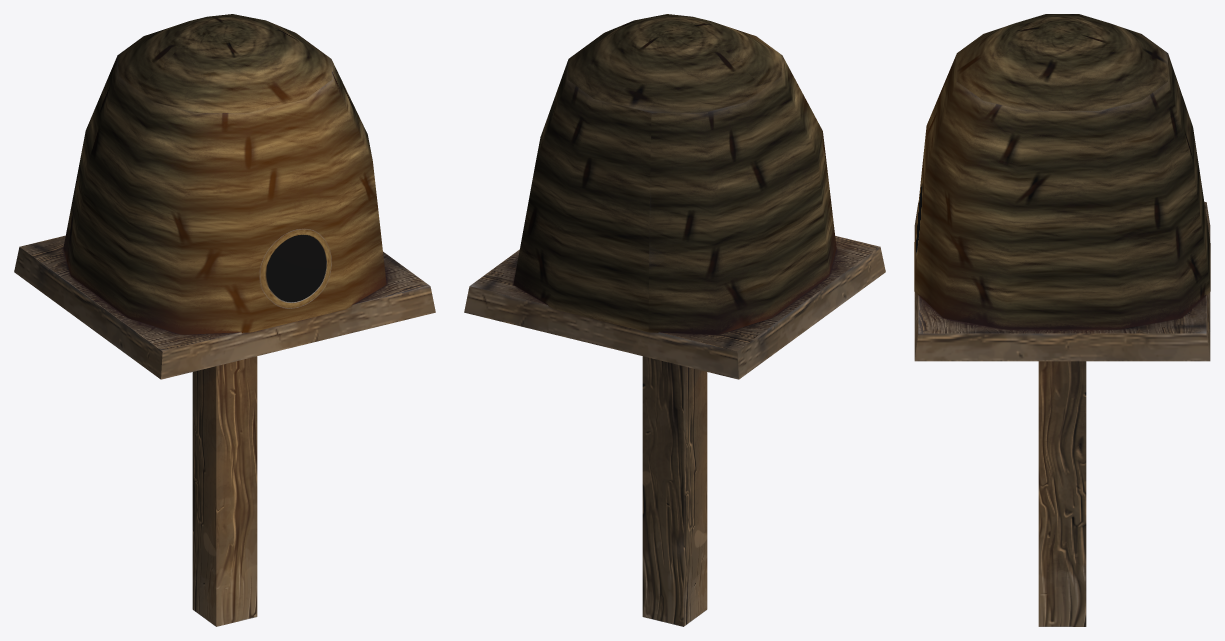
File: Ruche.fbx
3 views of the same model, side by side, from view 1: azimuth 30°, elevation 25°; view 2: azimuth 150°, elevation 25°; view 3: azimuth 270°, elevation 25° (orthographic).
Visible parts, largest first — view 1: pCube4; view 2: pCube4; view 3: pCube4.
Boxes of the visible parts, <box> form: pCube4: <box>14,14,435,626</box>; pCube4: <box>464,14,885,626</box>; pCube4: <box>914,14,1210,626</box>.
Size of the model in its own units: 5.22 by 10.58 by 4.84.
